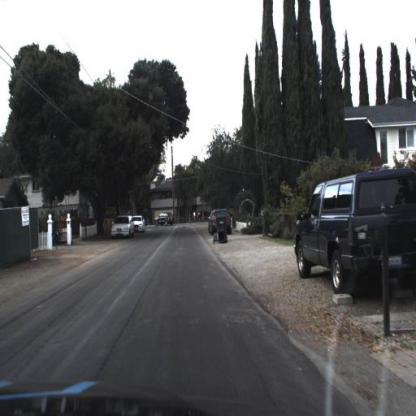biker: (192, 212, 202, 224), (197, 212, 204, 224), (192, 212, 198, 224)
car: (297, 169, 415, 294), (112, 215, 134, 238), (211, 211, 232, 234), (154, 213, 172, 227), (134, 215, 146, 232)
